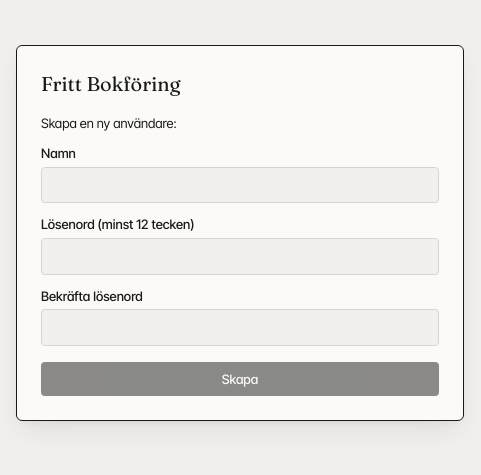
Test: LockScreen — create flow › weak password error from backend is surfaced
Type "Alice" into the field with test id "lockscreen-name" at (240, 185), box x1=41 y1=167 x2=439 y2=204
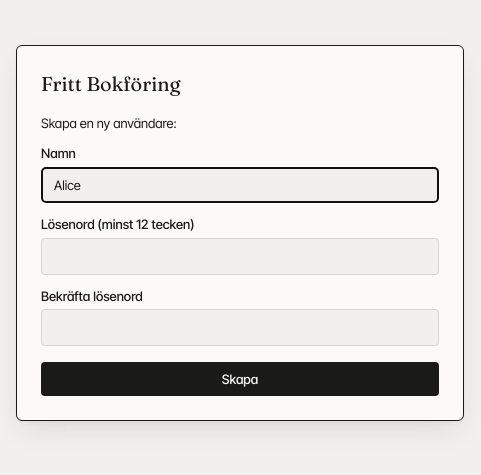
Type "short" into the password field with test id "lockscreen-new-password" at (240, 256), box x1=41 y1=238 x2=439 y2=275
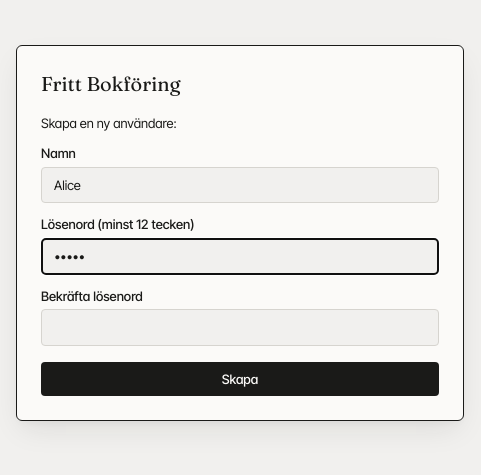
Type "short" into the password field with test id "lockscreen-confirm-password" at (240, 327), box x1=41 y1=309 x2=439 y2=346
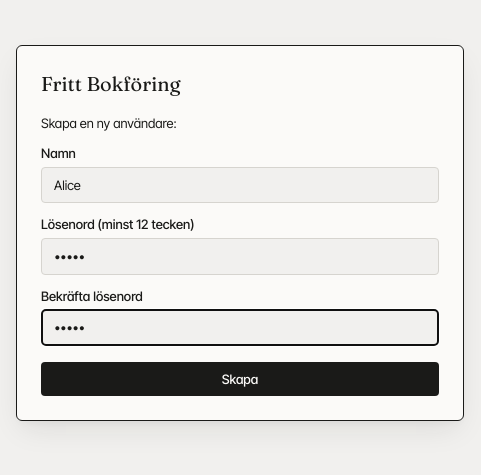
Click the button with test id "lockscreen-create-submit" at (240, 379), box x1=41 y1=362 x2=439 y2=396
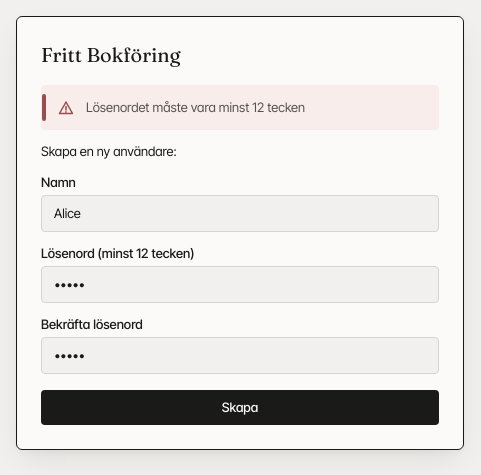
Check: the message shows "12 tecken", box x1=86 y1=100 x2=305 y2=116
